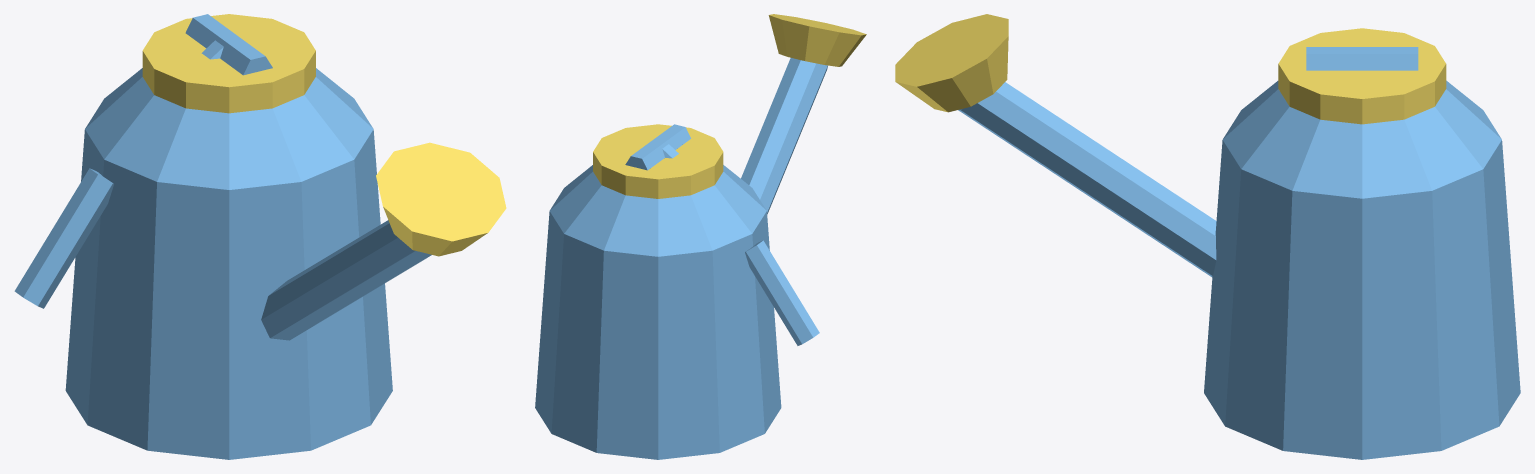
The model's file is lawn-mowing-simulator-kit-watering-can-f9fdef7e__27380.glb.
3 views of the same model, side by side, from view 1: azimuth 30°, elevation 25°; view 2: azimuth 150°, elevation 25°; view 3: azimuth 270°, elevation 25° (orthographic). The views are drawn at different scales.
Parts seen in each view (by area): view 1: watering-can; view 2: watering-can; view 3: watering-can.
Boxes of the visible parts, left/top/right/bottom form: watering-can: left=14, top=14, right=506, bottom=459; watering-can: left=535, top=14, right=866, bottom=459; watering-can: left=895, top=14, right=1520, bottom=459.
Size of the model in its own units: 0.4224 by 0.4327 by 0.6712.
